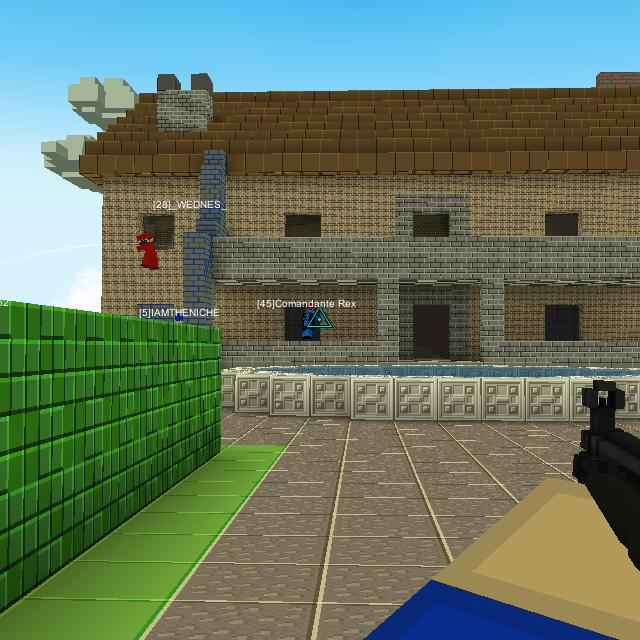enemy: (136, 229, 159, 269)
